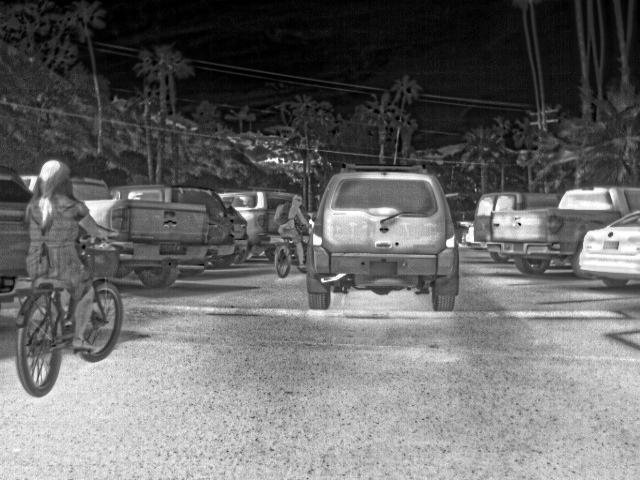car: (307, 161, 459, 311), (67, 176, 208, 292), (494, 184, 638, 276), (110, 185, 233, 265), (473, 192, 563, 264), (216, 186, 292, 260), (577, 210, 639, 291), (0, 170, 30, 294), (223, 205, 249, 267), (462, 220, 475, 248)
person: (23, 157, 117, 356), (276, 194, 307, 271)
